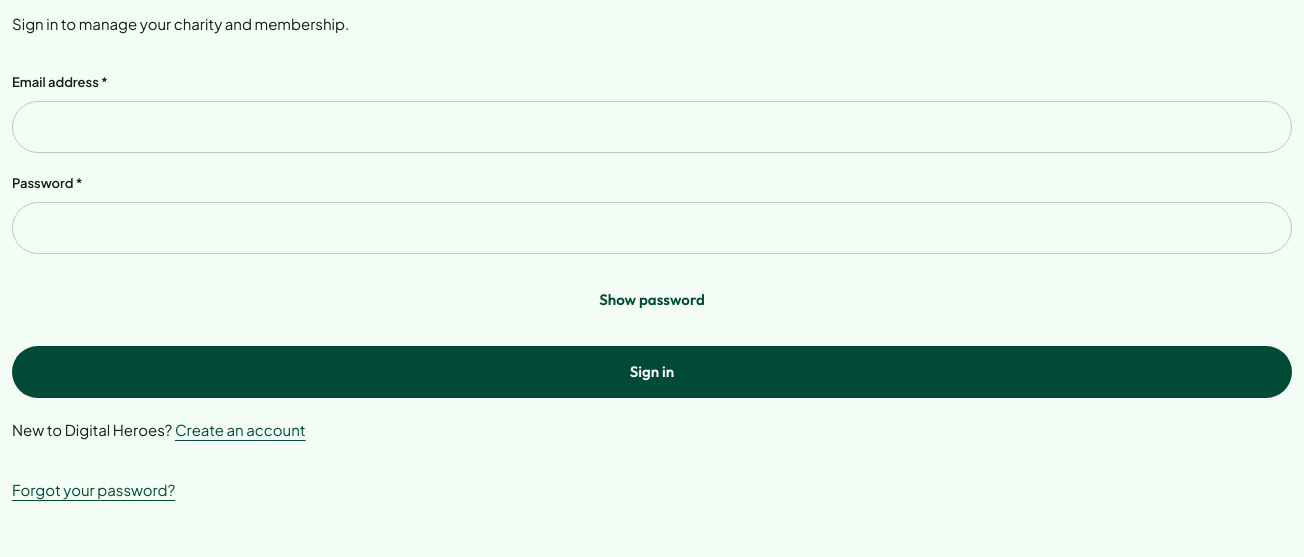
it: invalid credentials remain accessible and preserve email; external return URLs rejected
Step 1. Type "alex@example.com" into the field labelled "Email address *" → {"x": 652, "y": 127}, box [12,101,1292,153]
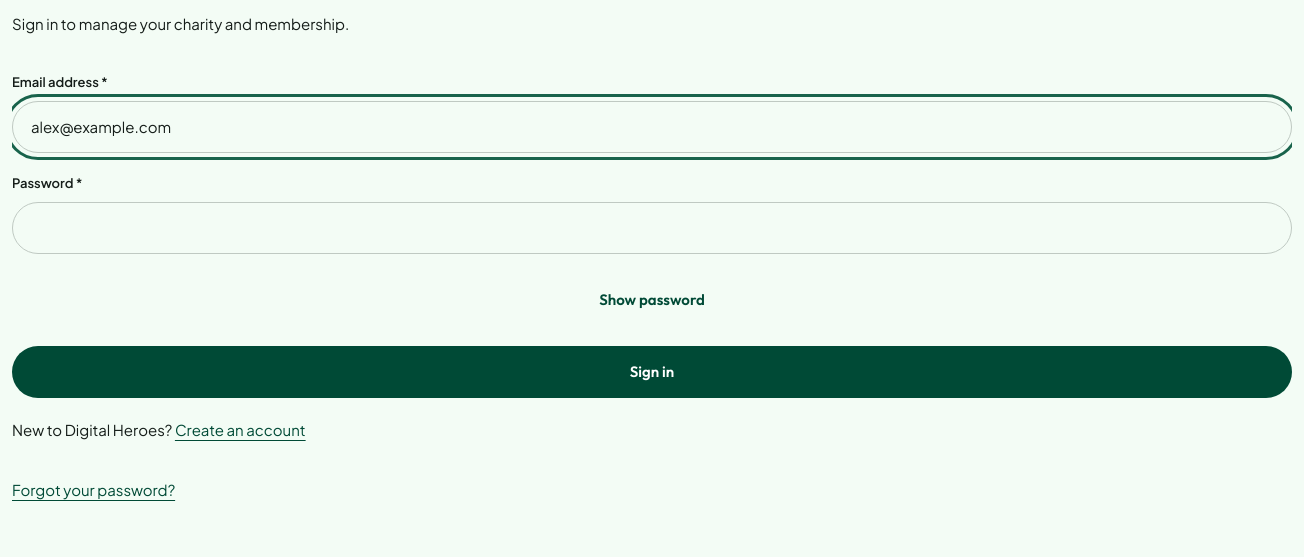
Step 2. Type "wrong" into the password field labelled "Password *" → {"x": 652, "y": 228}, box [12,202,1292,254]
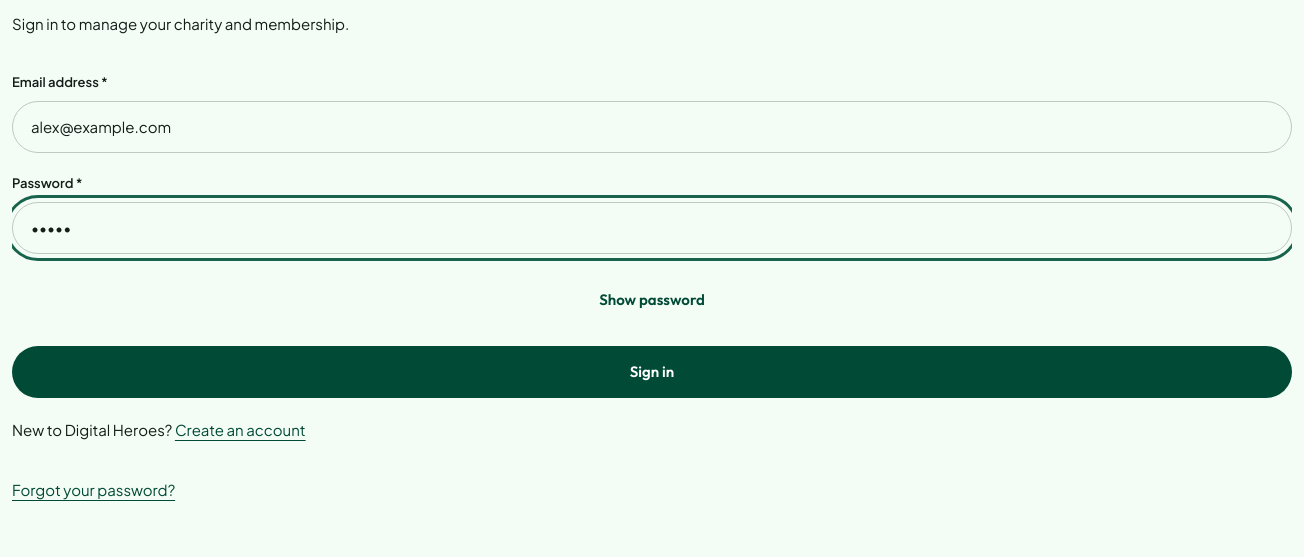
Step 3. Click the button "Sign in" → {"x": 652, "y": 372}, box [12,346,1292,398]
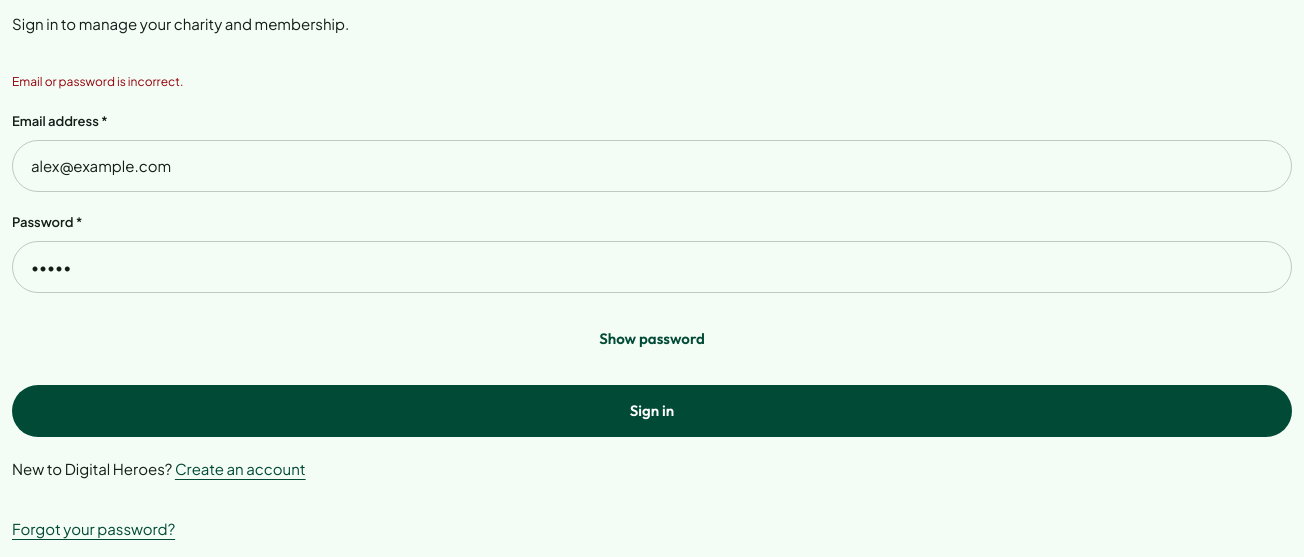
Expected: the message shows "Email or password", [12,74,183,89]
